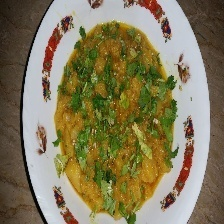dal: (51, 16, 186, 222)
